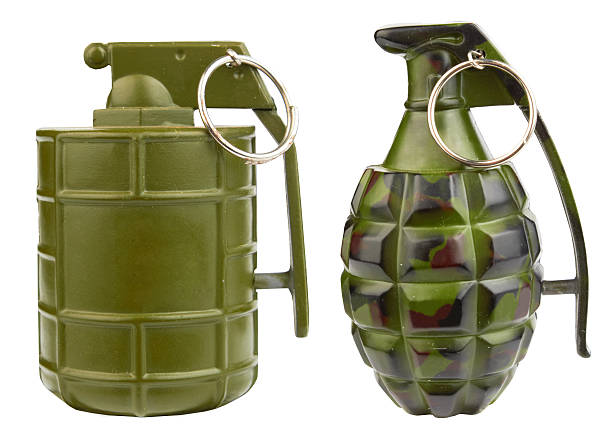e1: (33, 41, 309, 418), (339, 22, 591, 419)
